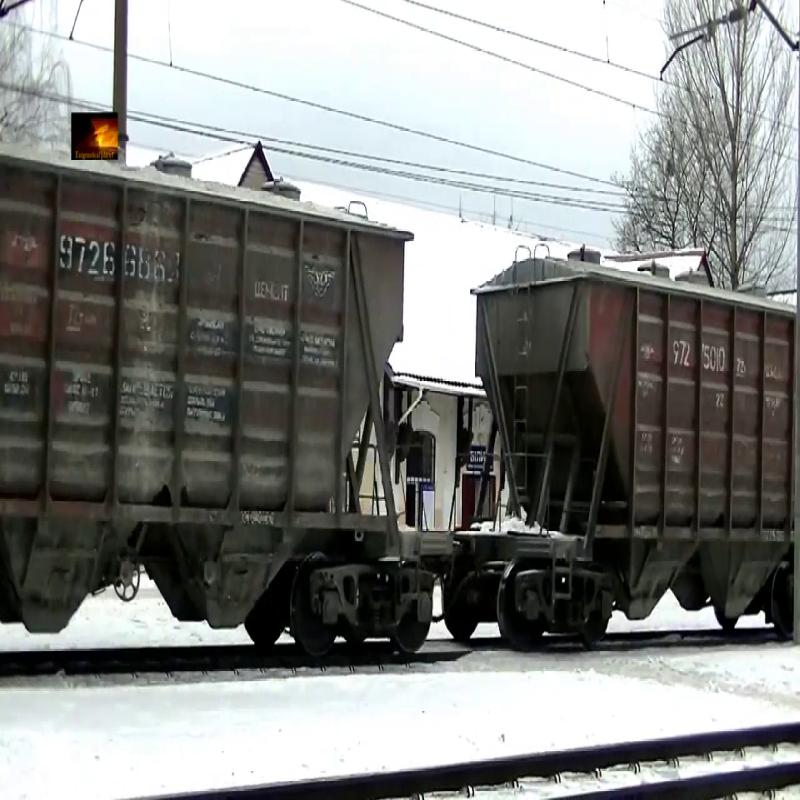train: (1, 156, 438, 653), (459, 274, 800, 650)
